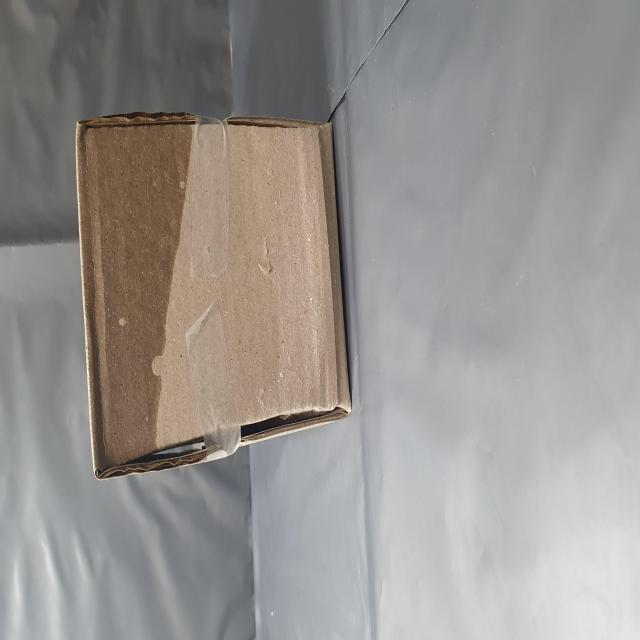wet: (106, 141, 300, 353)
